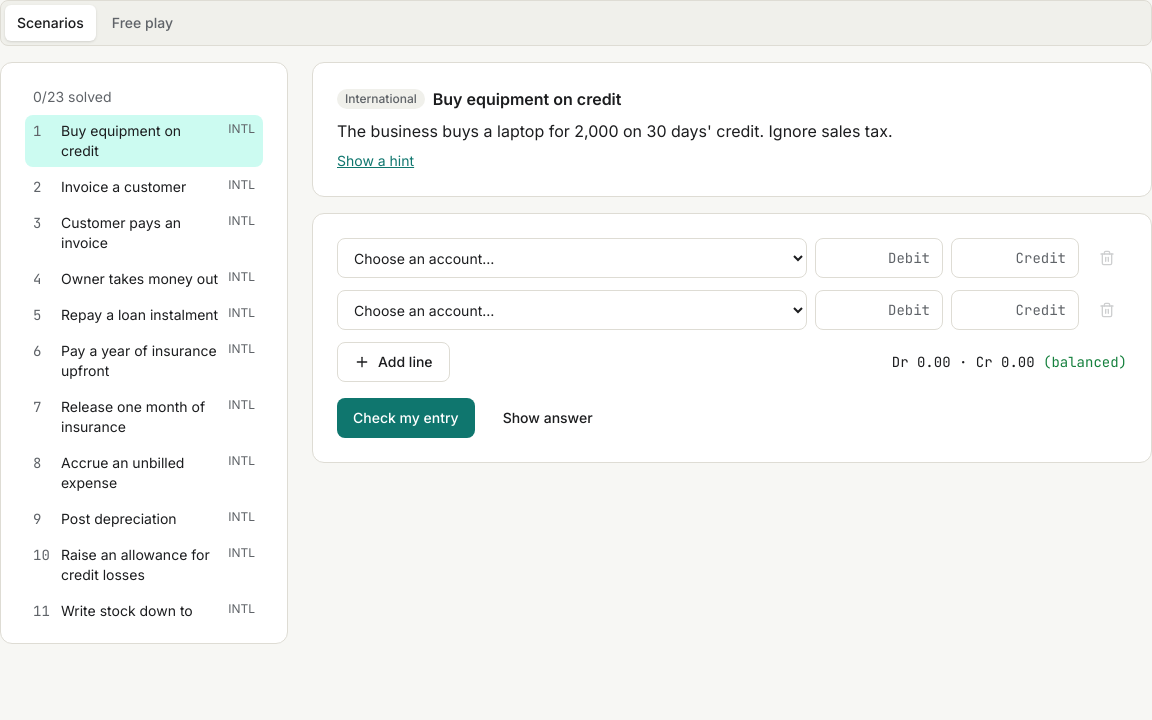
JournalSimulator › flags an unbalanced entry, then accepts the right one and records it
The width and height of the screenshot is (1152, 720).
Select "1500 · Equipment" in the 1st dropdown named "account" at (572, 258), box x1=337 y1=238 x2=807 y2=278
Select "2000 · Accounts Payable" in the 2nd dropdown named "account" at (572, 310), box x1=337 y1=290 x2=807 y2=330
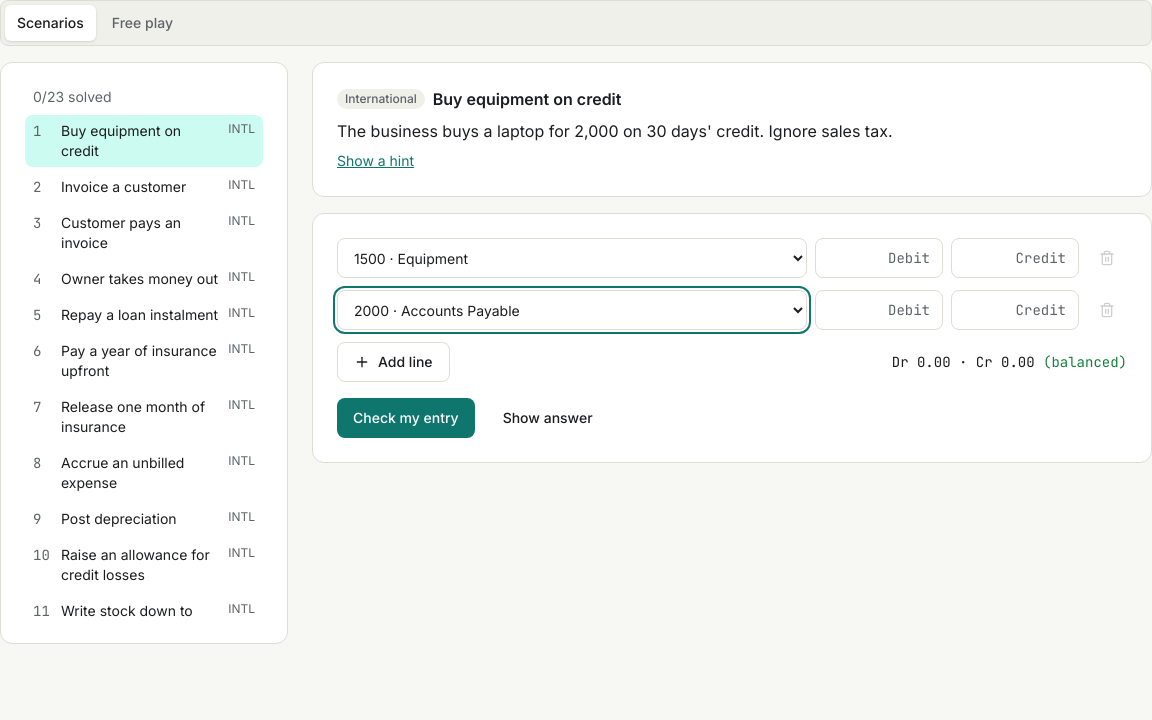
Type "2000" into the field named "Line 1 debit" at (879, 258), box x1=815 y1=238 x2=943 y2=278
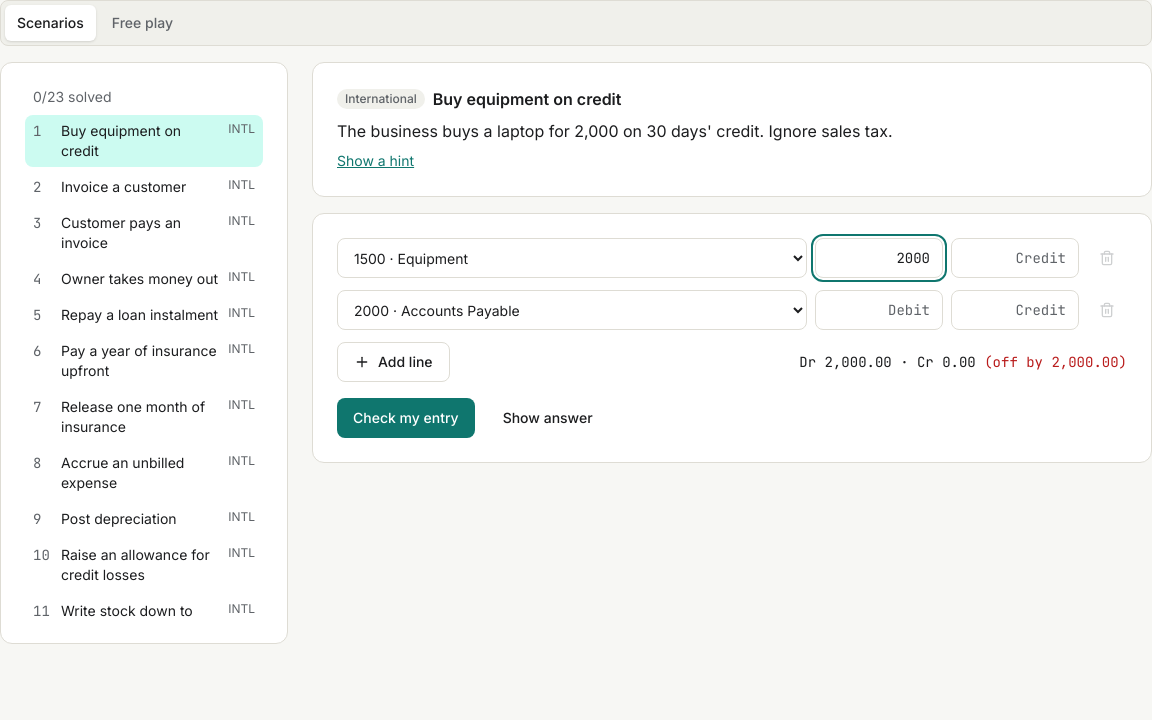
Type "1900" into the field named "Line 2 credit" at (1015, 310), box x1=951 y1=290 x2=1079 y2=330
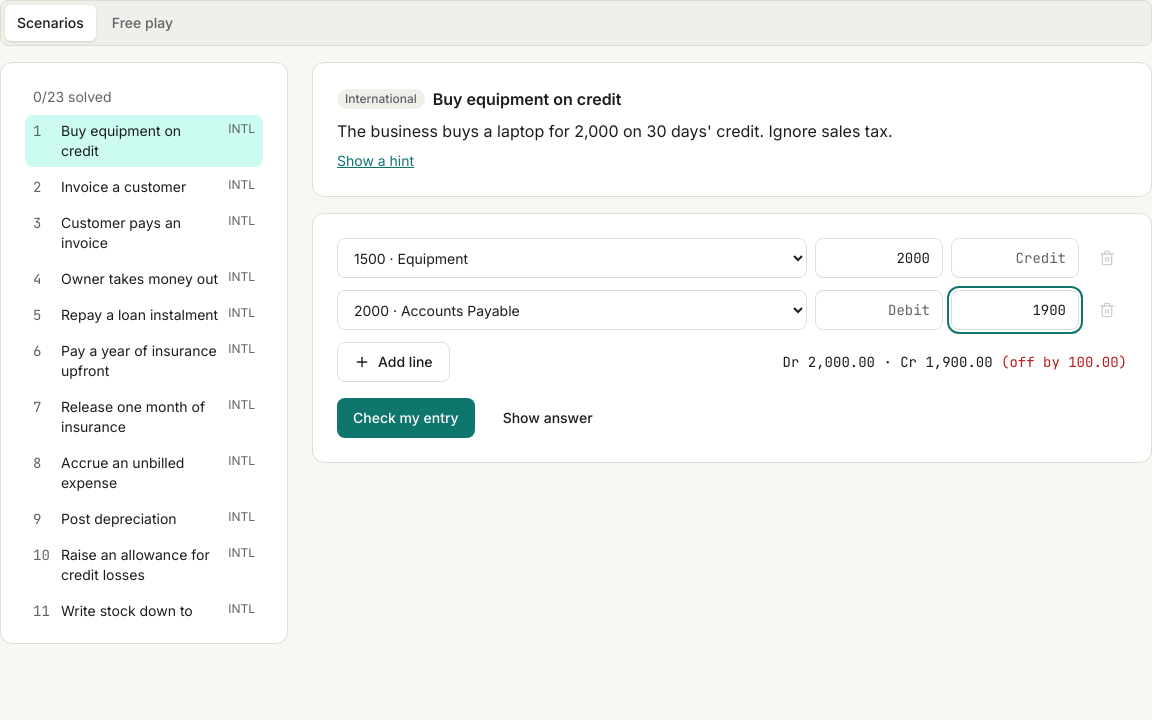
Click the button "Check my entry" at (406, 418), box x1=337 y1=398 x2=475 y2=438
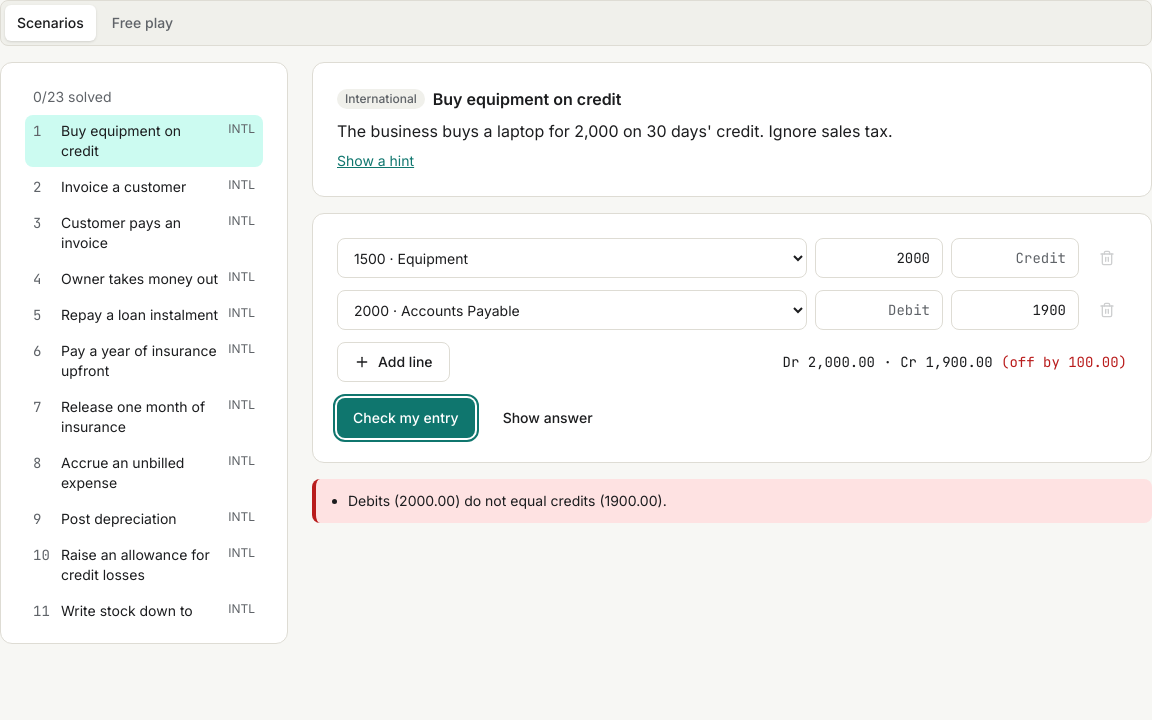
Now the list item "Debits (2000.00) do not equal credits (1900.00)." is shown, box x1=348 y1=492 x2=667 y2=509
Replace the text in the 2nd field named "Line 2 credit" with "2,000" at (1015, 310), box x1=951 y1=290 x2=1079 y2=330
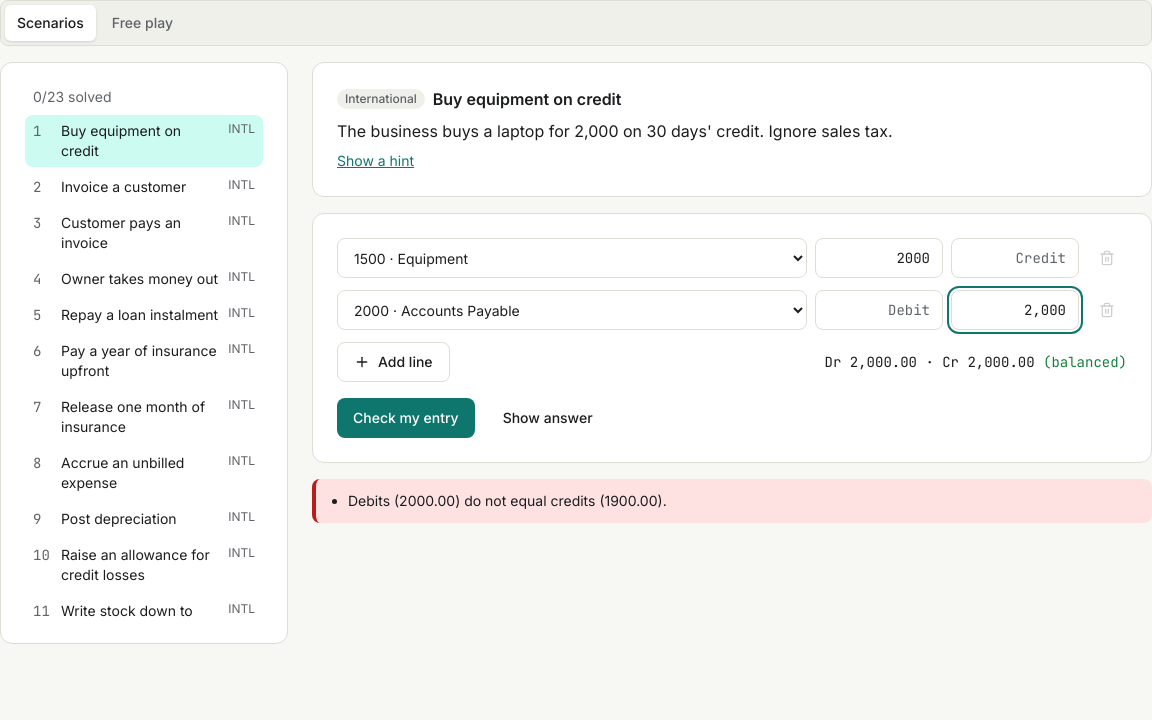
Click the button "Check my entry" at (406, 418), box x1=337 y1=398 x2=475 y2=438
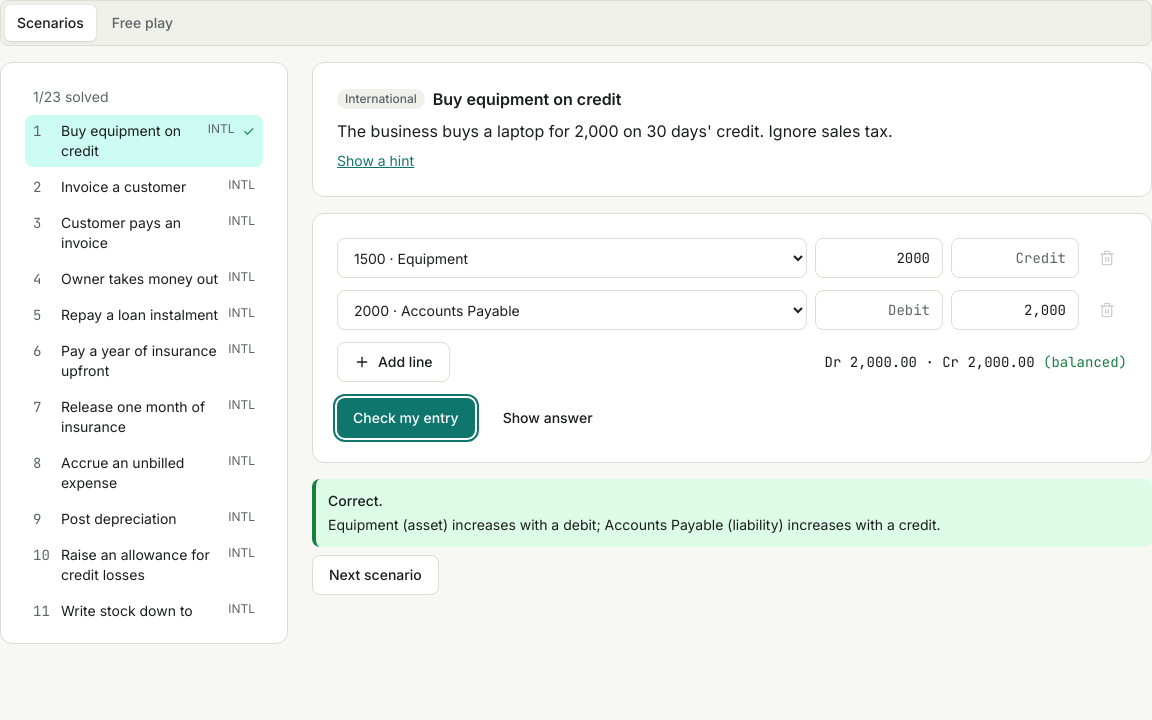
Now the text "Correct." is shown, box x1=328 y1=492 x2=383 y2=509
